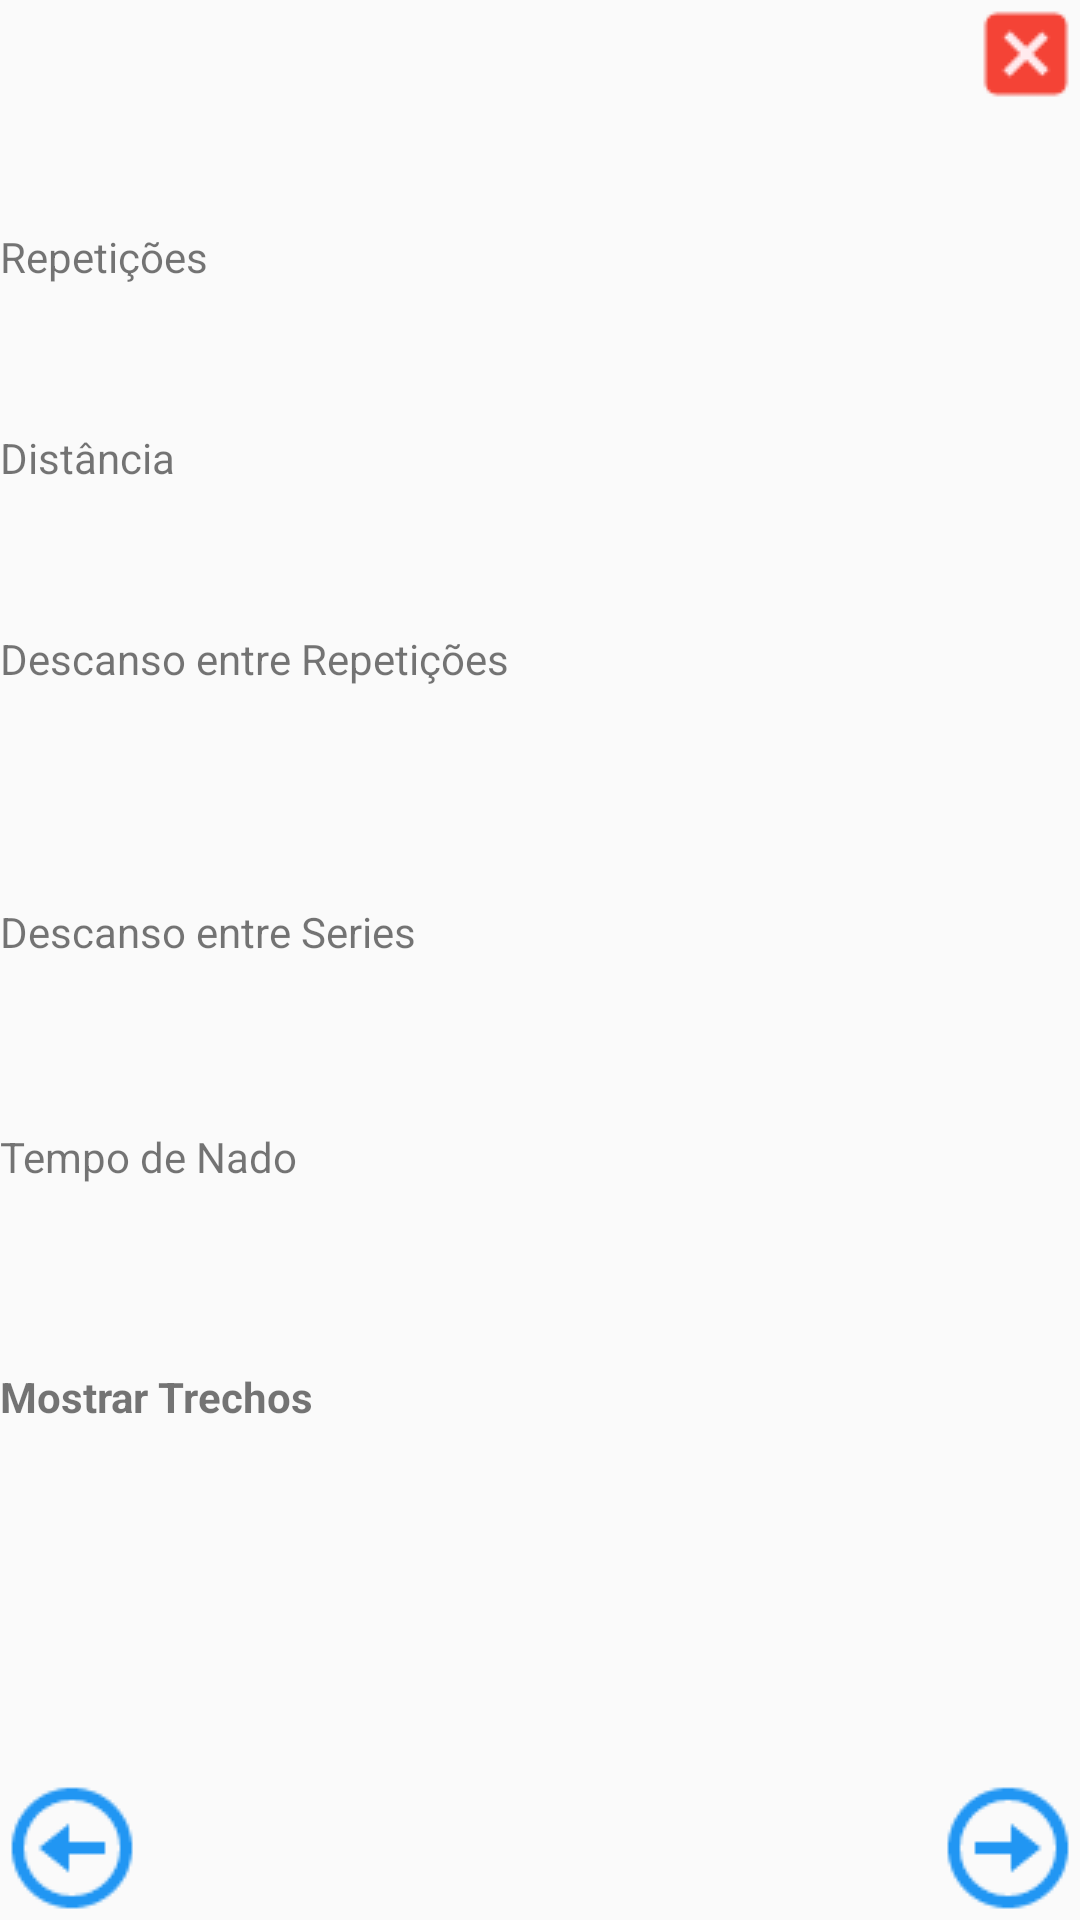

Screen size 1080*1920. Icon name, then its center in pixels as [x,y]:
close: [1026,54]
direita: [1008,1848]
esquerda: [72,1848]
